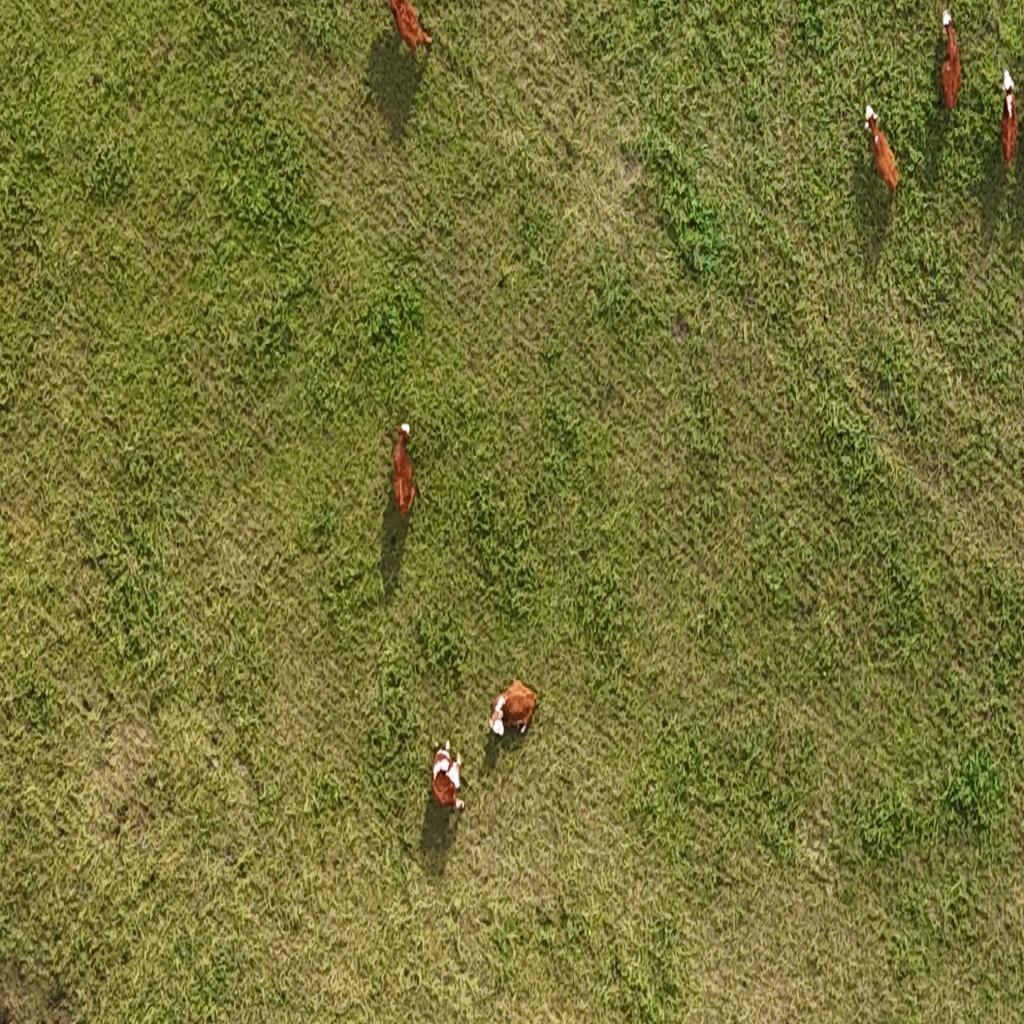cow: (486, 676, 541, 748), (390, 419, 422, 526), (380, 0, 431, 63), (863, 104, 899, 193), (429, 738, 467, 814), (939, 6, 963, 112), (997, 71, 1019, 173)
